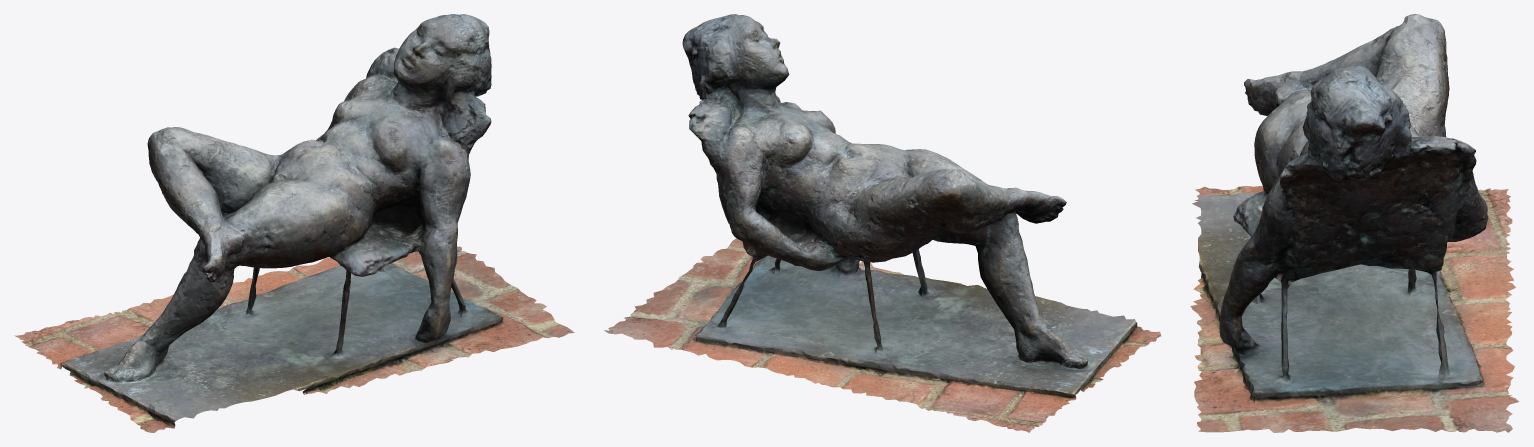
Rendered from preview.glb.
3 views of the same model, side by side, from view 1: azimuth 30°, elevation 25°; view 2: azimuth 150°, elevation 25°; view 3: azimuth 270°, elevation 25° (orthographic). The views are drawn at different scales.
Size of the model in its own units: 0.8421 by 0.5283 by 0.4803.
1 material, 1 textured.
